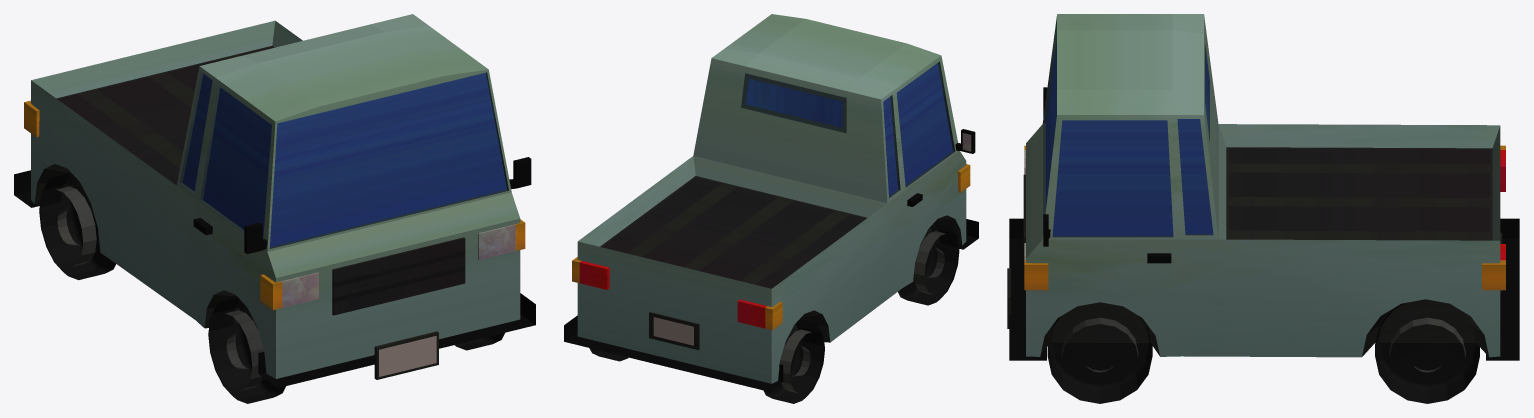
Rendered from vehicle002.glb.
3 renders of one model, left to right at view 1: azimuth 30°, elevation 25°; view 2: azimuth 150°, elevation 25°; view 3: azimuth 270°, elevation 25°, orthographic. The views are drawn at different scales.
Visible parts, largest first — view 1: vehicle003; view 2: vehicle003; view 3: vehicle003.
Part boxes in pixels (bbox=[...]): vehicle003: bbox=[14, 14, 535, 403]; vehicle003: bbox=[564, 14, 978, 403]; vehicle003: bbox=[1007, 14, 1519, 403].
Bounding box in the file's own units: 3.28 × 3.25 × 5.29.
1 material, 1 textured.
